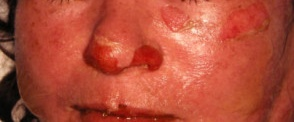SJS-TEN: (12, 0, 294, 122)
